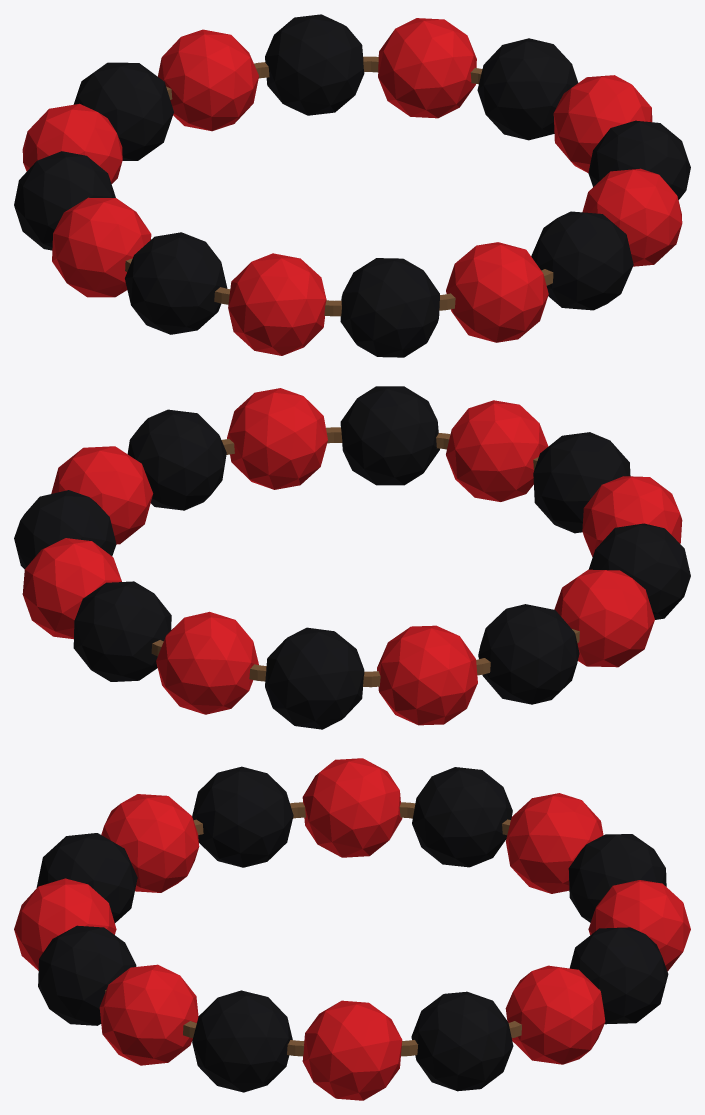
The model's file is collar-huayruro.glb.
The picture shows the model from 3 angles, top to bottom: view 1: azimuth 30°, elevation 25°; view 2: azimuth 150°, elevation 25°; view 3: azimuth 270°, elevation 25°; orthographic projection.
Parts seen in each view (by area): view 1: collar-huayruro; view 2: collar-huayruro; view 3: collar-huayruro.
Boxes of the visible parts, x1,y1,x2,y2 form: collar-huayruro: (14,14,690,357); collar-huayruro: (14,386,690,729); collar-huayruro: (14,758,690,1100).
Size of the model in its own units: 0.66 by 0.0997 by 0.66.
